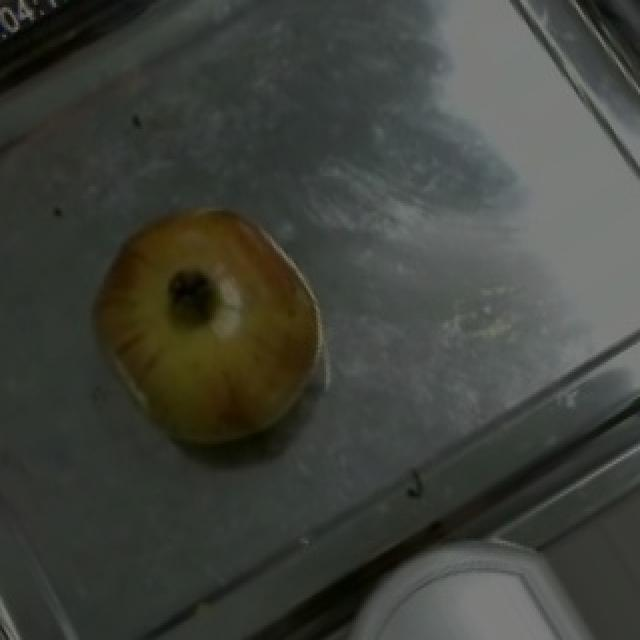fruit: (70, 176, 360, 471)
